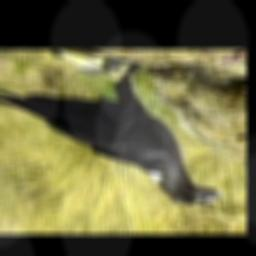Crow: (0, 59, 222, 207)
